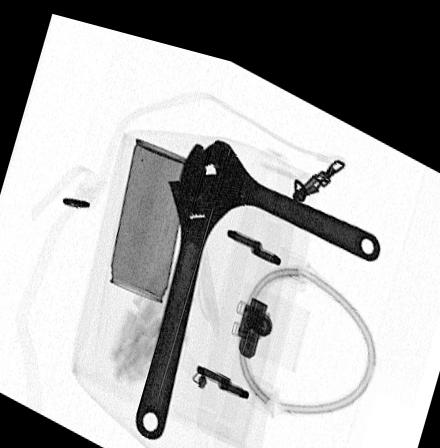Wrench: (136, 128, 242, 435), (182, 129, 381, 245)
